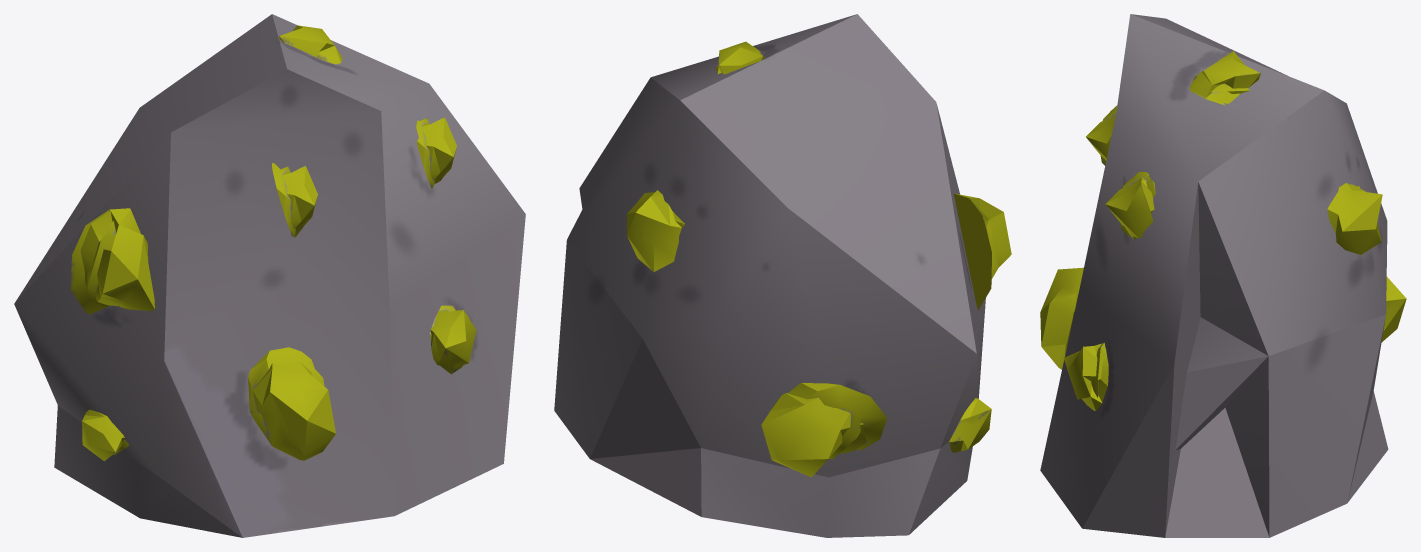
File: Ouro.fbx
3 renders of one model, left to right at view 1: azimuth 30°, elevation 25°; view 2: azimuth 150°, elevation 25°; view 3: azimuth 270°, elevation 25°, orthographic.
Visible parts, largest first — view 1: Minerio_Ouro; view 2: Minerio_Ouro; view 3: Minerio_Ouro.
Part boxes in pixels (left/top/right/bottom): Minerio_Ouro: left=14, top=14, right=525, bottom=537; Minerio_Ouro: left=554, top=14, right=1011, bottom=537; Minerio_Ouro: left=1040, top=14, right=1406, bottom=537.
Bounding box in the file's own units: 294 × 267 × 205.
